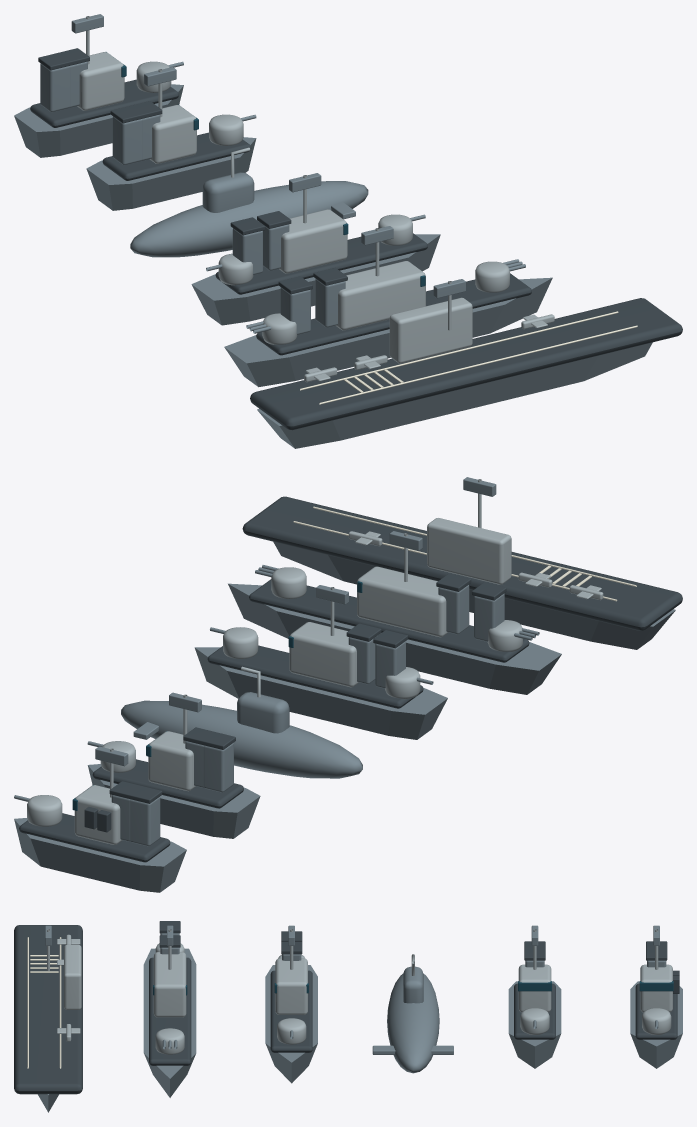
Rendered from Fleet_Ships_6.glb.
3 views of the same model, one above another, from view 1: azimuth 30°, elevation 25°; view 2: azimuth 150°, elevation 25°; view 3: azimuth 270°, elevation 25° (orthographic). The views are drawn at different scales.
Visible parts, largest first — view 1: Flight deck, Tapered hull, Pressure hull, Tapered hull.001, Tapered hull.003, Bridge, Island, Tapered hull.002, Bridge.001, Tapered hull.004, Main deck, Main deck.001 (+18 smaller); view 2: Flight deck, Pressure hull, Tapered hull.002, Tapered hull.001, Tapered hull, Tapered hull.004, Bridge, Island, Main deck, Bridge.001, Tapered hull.003, Main deck.001 (+17 smaller); view 3: Flight deck, Pressure hull, Bridge, Tapered hull.001, Main deck, Tapered hull.002, Bridge.001, Tapered hull.003, Tapered hull.004, Main deck.001, Bridge.002, Bridge.003 (+12 smaller).
Boxes of the visible parts, x1,y1,x2,y2 form: Flight deck: (250,298,682,430); Tapered hull: (257,342,652,448); Pressure hull: (130,181,368,257); Tapered hull.001: (224,277,552,387); Tapered hull.003: (86,137,256,210); Bridge: (336,261,425,330); Island: (389,297,472,363); Tapered hull.002: (191,234,440,325); Bridge.001: (279,209,347,273); Tapered hull.004: (14,84,183,157); Main deck: (256,273,531,355); Main deck.001: (215,233,427,294); Flight deck: (242,496,682,630); Pressure hull: (121,700,362,778); Tapered hull.002: (194,647,447,739); Tapered hull.001: (228,583,561,694); Tapered hull: (273,541,675,649); Tapered hull.004: (14,818,186,892); Bridge: (357,566,448,637); Island: (427,518,511,584); Main deck: (249,579,529,662); Bridge.001: (289,622,358,687); Tapered hull.003: (87,764,260,838); Main deck.001: (207,645,423,708); Flight deck: (14,925,82,1094); Pressure hull: (387,973,439,1073); Bridge: (153,952,186,1017); Tapered hull.001: (143,948,196,1097); Main deck: (149,957,191,1065); Tapered hull.002: (265,965,317,1083); Bridge.001: (275,958,307,1014); Tapered hull.003: (508,981,561,1068); Tapered hull.004: (630,981,682,1068); Main deck.001: (270,970,312,1052); Bridge.002: (518,964,551,1012); Bridge.003: (640,964,672,1012).
Bounding box in the file's own units: 0.475 × 0.141 × 0.825.
